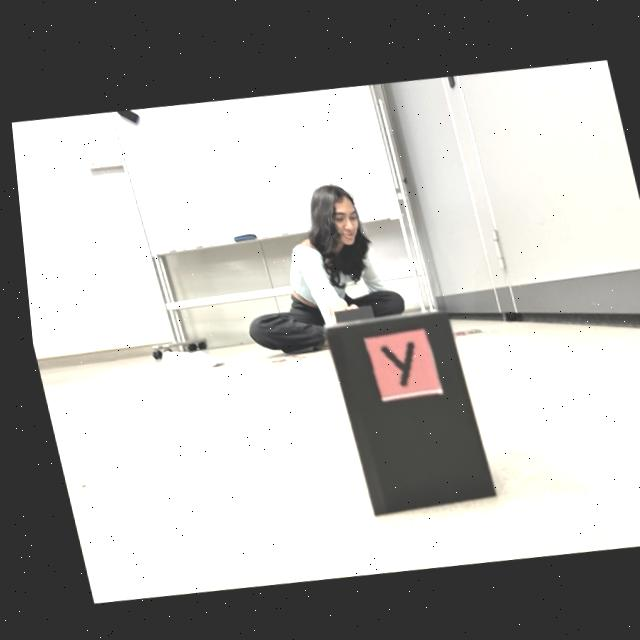Y: (372, 338, 408, 383)
